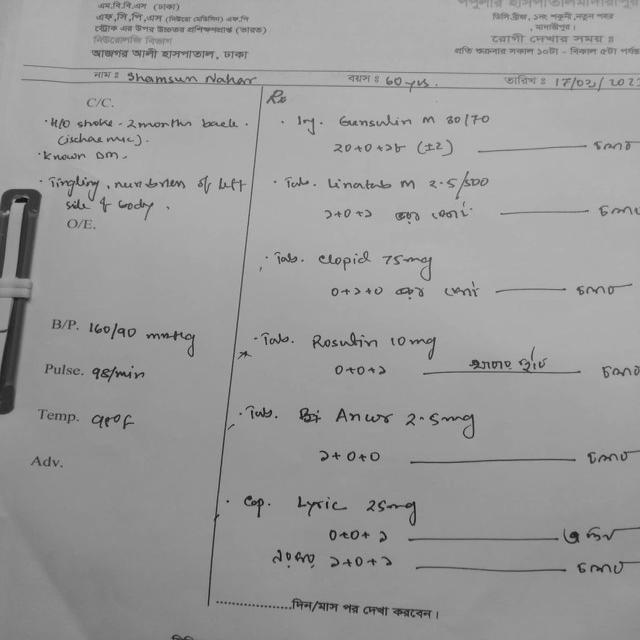Ancor: (334, 400, 402, 433)
Clopid: (310, 247, 380, 274)
Gensulin M: (324, 107, 445, 136)
Linatab M: (322, 169, 423, 198)
Lyric: (294, 492, 361, 520)
Rosulin: (304, 328, 384, 357)
